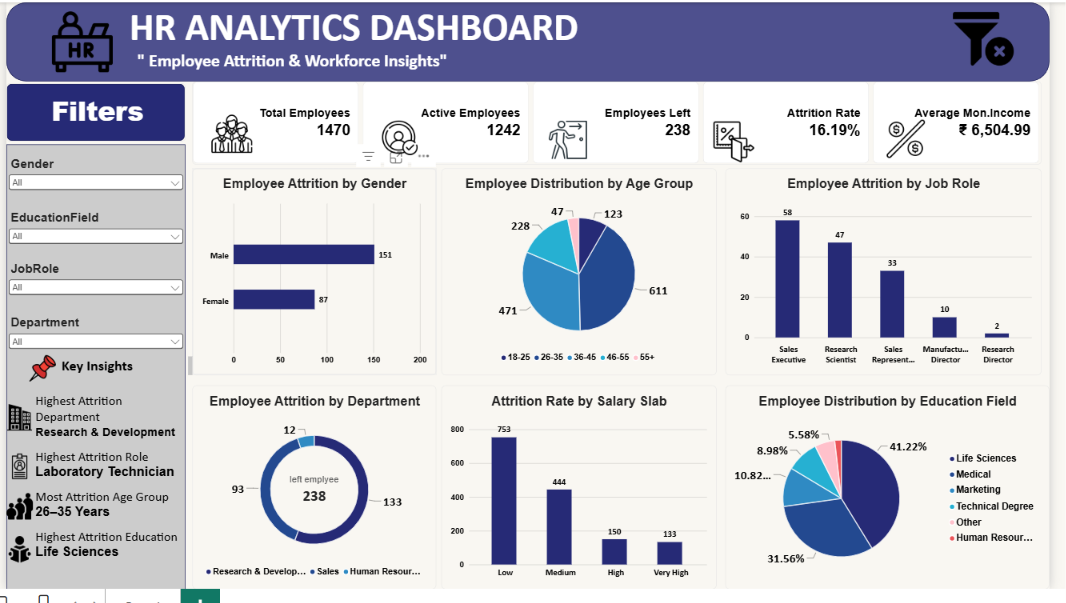

The dashboard page shown, as its layout file describes it:
{"tool":"powerbi","page":{"name":"Page 1","canvas":[1920,1080],"ordinal":0},"visuals":[{"type":"shape","box":[0,261.4,329.4,819],"z":0},{"type":"cardVisual","fields":{"Data":["HR_Analytics.Total Employee","HR_Analytics.active employee","HR_Analytics.left emplyee","HR_Analytics.attribute %","HR_Analytics.income avg"]},"box":[342.3,145.4,1562.6,152.8],"z":1000},{"type":"pieChart","title":"Employee Distribution by Education Field","fields":{"Category":["HR_Analytics.EducationField"],"Y":["HR_Analytics.Total Employee"]},"box":[1323.3,704.9,596.3,375.5],"z":2000},{"type":"pieChart","title":"Employee Distribution by Age Group","fields":{"Category":["HR_Analytics.AgeGroup"],"Y":["HR_Analytics.attr"]},"box":[800.6,305.5,506.1,381],"z":3000},{"type":"clusteredColumnChart","title":"Employee Attrition by Job Role","fields":{"Category":["HR_Analytics.JobRole"],"Y":["HR_Analytics.left emplyee"]},"box":[1323.3,305.5,581.6,381],"z":4000},{"type":"shape","box":[0,0,1919.6,145.4],"z":5000},{"type":"textbox","box":[226.4,0,881.6,136.2],"z":6000},{"type":"clusteredColumnChart","title":"Attrition Rate by Salary Slab","fields":{"Category":["HR_Analytics.Salary Slab"],"Y":["HR_Analytics.attr"]},"box":[800.6,704.9,506.1,375.5],"z":7000},{"type":"clusteredBarChart","title":"Employee Attrition by Gender","fields":{"Category":["HR_Analytics.Gender"],"Y":["HR_Analytics.left emplyee"]},"box":[342.3,305.5,449.1,381],"z":8000},{"type":"slicer","fields":{"Values":["HR_Analytics.Gender"]},"box":[0,283.4,329.4,79.1],"z":9000},{"type":"slicer","fields":{"Values":["HR_Analytics.EducationField"]},"box":[0,382.8,329.4,73.6],"z":10000},{"type":"slicer","fields":{"Values":["HR_Analytics.Department"]},"box":[0,576.1,329.4,75.5],"z":11000},{"type":"slicer","fields":{"Values":["HR_Analytics.JobRole"]},"box":[0,476.7,329.4,79.1],"z":12000},{"type":"donutChart","title":"Employee Attrition by Department","fields":{"Category":["HR_Analytics.Department"],"Y":["HR_Analytics.left emplyee"]},"box":[342.3,704.9,449.1,375.5],"z":13000},{"type":"textbox","box":[0,651.5,342.3,53.4],"z":14000},{"type":"shape","box":[0,149.1,329.4,106.7],"z":15000},{"type":"textbox","box":[29.4,165.6,276.1,90.2],"z":16000},{"type":"image","box":[53.4,16.6,173,112.3],"z":17000},{"type":"image","box":[358.9,204.3,112.3,75.5],"z":18000},{"type":"image","box":[668.1,211.7,112.3,75.5],"z":19000},{"type":"image","box":[977.3,215.3,112.3,75.5],"z":20000},{"type":"image","box":[1282.8,219,112.3,75.5],"z":21000},{"type":"image","box":[1599.4,213.5,112.3,75.5],"z":22000},{"type":"textbox","box":[53.1,718.4,275.5,332.7],"z":23000},{"type":"image","box":[42.9,638.8,49,69.4],"z":23001},{"type":"image","box":[0,728.6,49,69.4],"z":23002},{"type":"image","box":[0,818.4,49,69.4],"z":23003},{"type":"image","box":[0,891.8,49,69.4],"z":23004},{"type":"image","box":[0,971.4,49,69.4],"z":23005},{"type":"image","box":[1712.2,10.2,173,112.3],"z":23006}]}

Visuals, with their boxes in screenshot pixels (x1, y1, x2, y2), scaled from the page's 1920x1080 canvas onto the 1066x603 screenshot:
shape: region(0, 146, 183, 602)
cardVisual - HR_Analytics.Total Employee x HR_Analytics.active employee: region(190, 81, 1058, 166)
"Employee Distribution by Education Field" pieChart: region(735, 394, 1065, 602)
"Employee Distribution by Age Group" pieChart: region(444, 171, 725, 383)
"Employee Attrition by Job Role" clusteredColumnChart: region(735, 171, 1058, 383)
shape: region(0, 0, 1065, 81)
textbox: region(126, 0, 615, 76)
"Attrition Rate by Salary Slab" clusteredColumnChart: region(444, 394, 725, 602)
"Employee Attrition by Gender" clusteredBarChart: region(190, 171, 439, 383)
slicer - HR_Analytics.Gender: region(0, 158, 183, 202)
slicer - HR_Analytics.EducationField: region(0, 214, 183, 255)
slicer - HR_Analytics.Department: region(0, 322, 183, 364)
slicer - HR_Analytics.JobRole: region(0, 266, 183, 310)
"Employee Attrition by Department" donutChart: region(190, 394, 439, 602)
textbox: region(0, 364, 190, 394)
shape: region(0, 83, 183, 143)
textbox: region(16, 92, 170, 143)
image: region(30, 9, 126, 72)
image: region(199, 114, 262, 156)
image: region(371, 118, 433, 160)
image: region(543, 120, 605, 162)
image: region(712, 122, 775, 164)
image: region(888, 119, 950, 161)
textbox: region(29, 401, 182, 587)
image: region(24, 357, 51, 395)
image: region(0, 407, 27, 446)
image: region(0, 457, 27, 496)
image: region(0, 498, 27, 537)
image: region(0, 542, 27, 581)
image: region(951, 6, 1047, 68)
